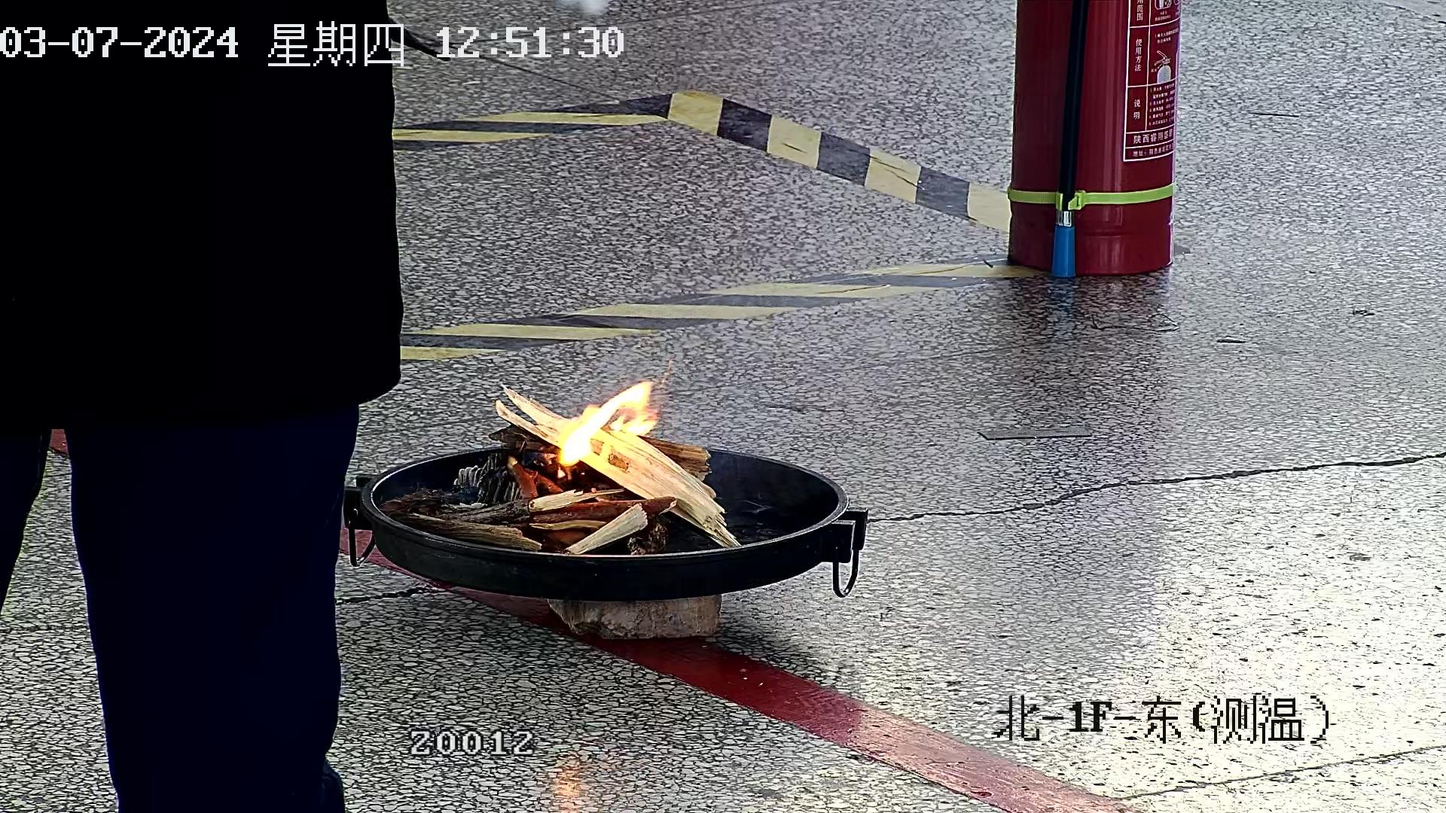fire: (541, 381, 659, 483)
